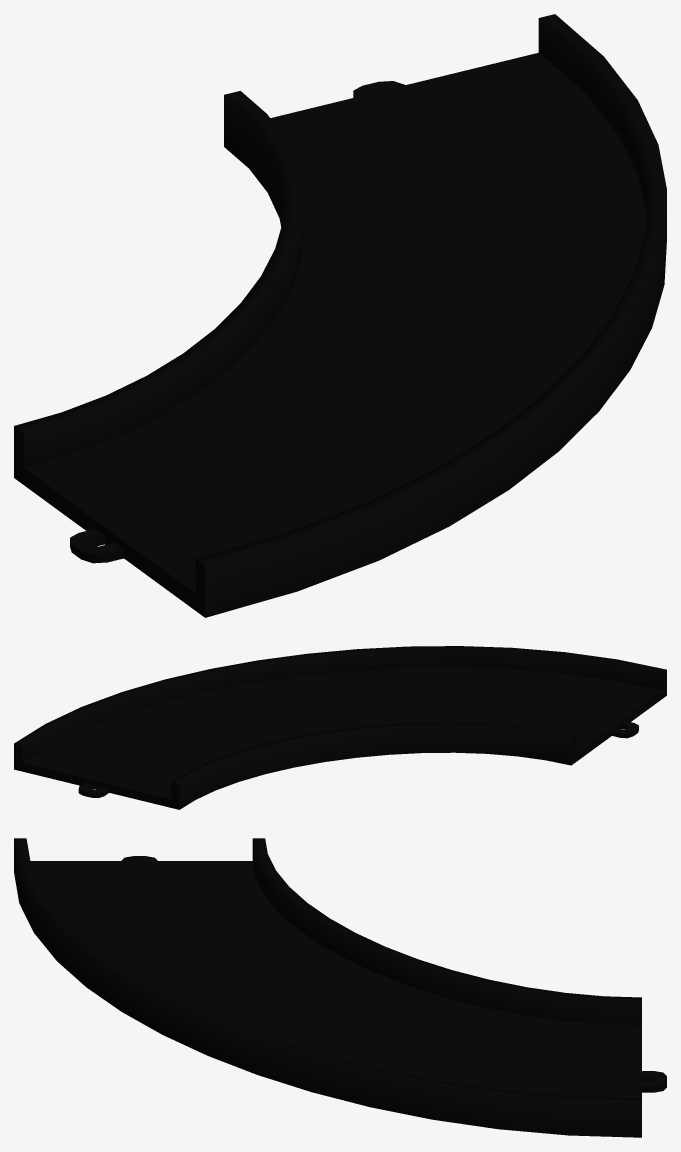
File: Track_Turn.glb
3 views of the same model, one above another, from view 1: azimuth 30°, elevation 25°; view 2: azimuth 150°, elevation 25°; view 3: azimuth 270°, elevation 25° (orthographic). The views are drawn at different scales.
Parts seen in each view (by area): view 1: track-wide-corner-large; view 2: track-wide-corner-large; view 3: track-wide-corner-large.
Boxes of the visible parts, <box> form: track-wide-corner-large: <box>14,14,666,617</box>; track-wide-corner-large: <box>14,646,666,809</box>; track-wide-corner-large: <box>14,838,666,1137</box>.
Bounding box in the file's own units: 5.2 × 0.3 × 5.2.
Materials: 1 (1 with a texture image).
